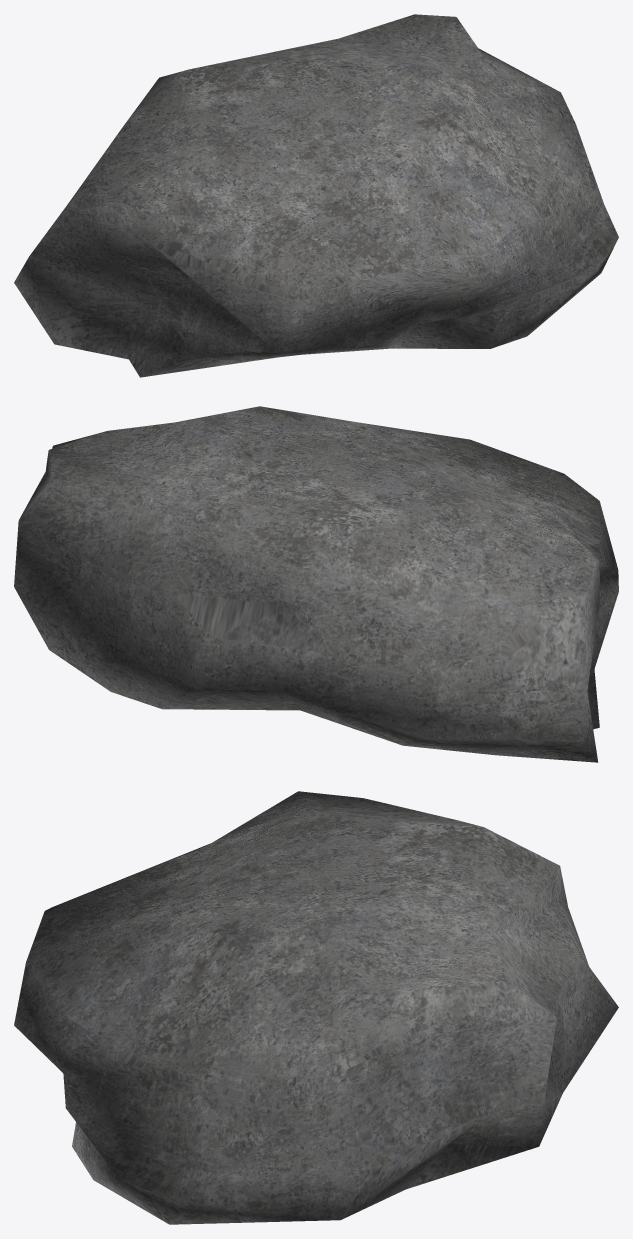
Rendered from SM_Rock_01_COLL.FBX.
The picture shows the model from 3 angles, top to bottom: view 1: azimuth 30°, elevation 25°; view 2: azimuth 150°, elevation 25°; view 3: azimuth 270°, elevation 25°; orthographic projection. The views are drawn at different scales.
Visible parts, largest first — view 1: SM_Rock_01_COLL; view 2: SM_Rock_01_COLL; view 3: SM_Rock_01_COLL.
Boxes of the visible parts, box(x1,y1,x2,y2) form: SM_Rock_01_COLL: box(14, 14, 618, 377); SM_Rock_01_COLL: box(14, 406, 618, 762); SM_Rock_01_COLL: box(14, 791, 618, 1224).
Bounding box in the file's own units: 2.44 × 0.9885 × 1.99.
Materials: 1 (1 with a texture image).
